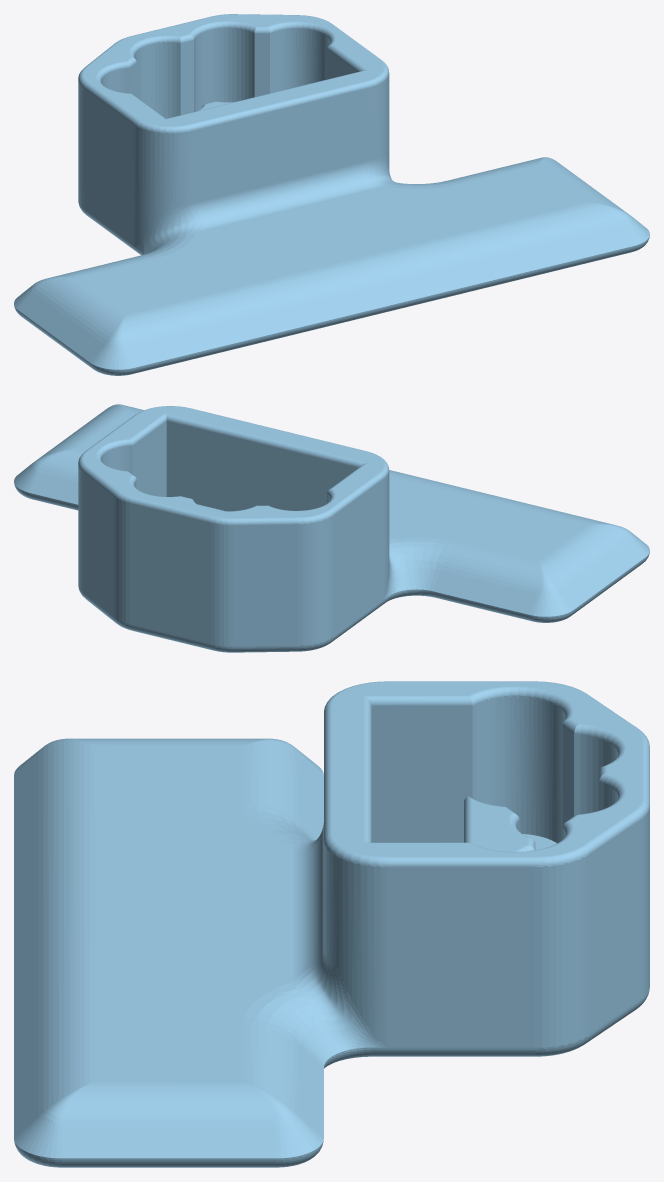
File: goal_foot.dae
3 renders of one model, top to bottom at view 1: azimuth 30°, elevation 25°; view 2: azimuth 150°, elevation 25°; view 3: azimuth 270°, elevation 25°, orthographic. The views are drawn at different scales.
Visible parts, largest first — view 1: 5c4fd335e981f8167fd77214; view 2: 5c4fd335e981f8167fd77214; view 3: 5c4fd335e981f8167fd77214.
Part boxes in pixels (x1,y1,x2,y2): 5c4fd335e981f8167fd77214: (14, 14, 649, 375); 5c4fd335e981f8167fd77214: (14, 404, 649, 652); 5c4fd335e981f8167fd77214: (14, 681, 649, 1167).
Size of the model in its own units: 0.06 by 0.04 by 0.014.
